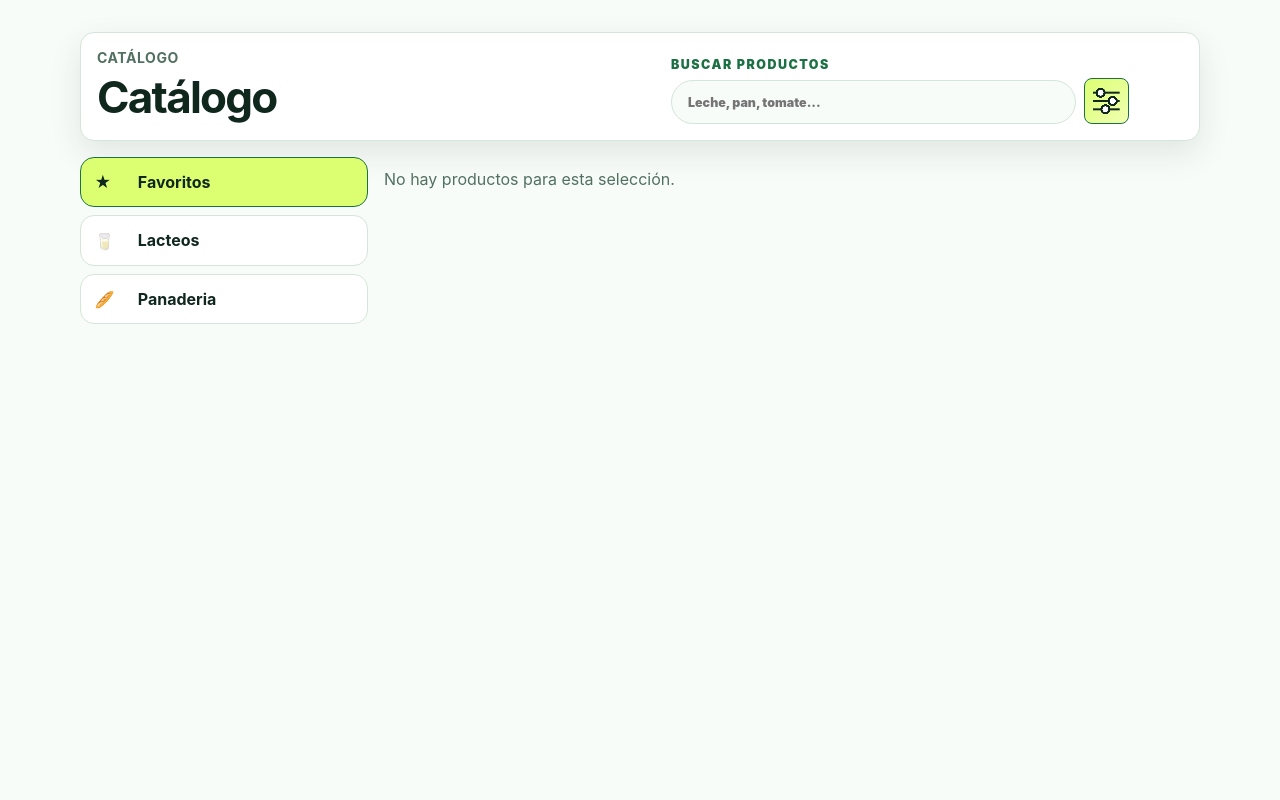
Test: CatalogPage › can filter search results by the selected category
The image size is (1280, 800).
Click the button "🥛 Lacteos" at (169, 240), box [80,215,368,266]
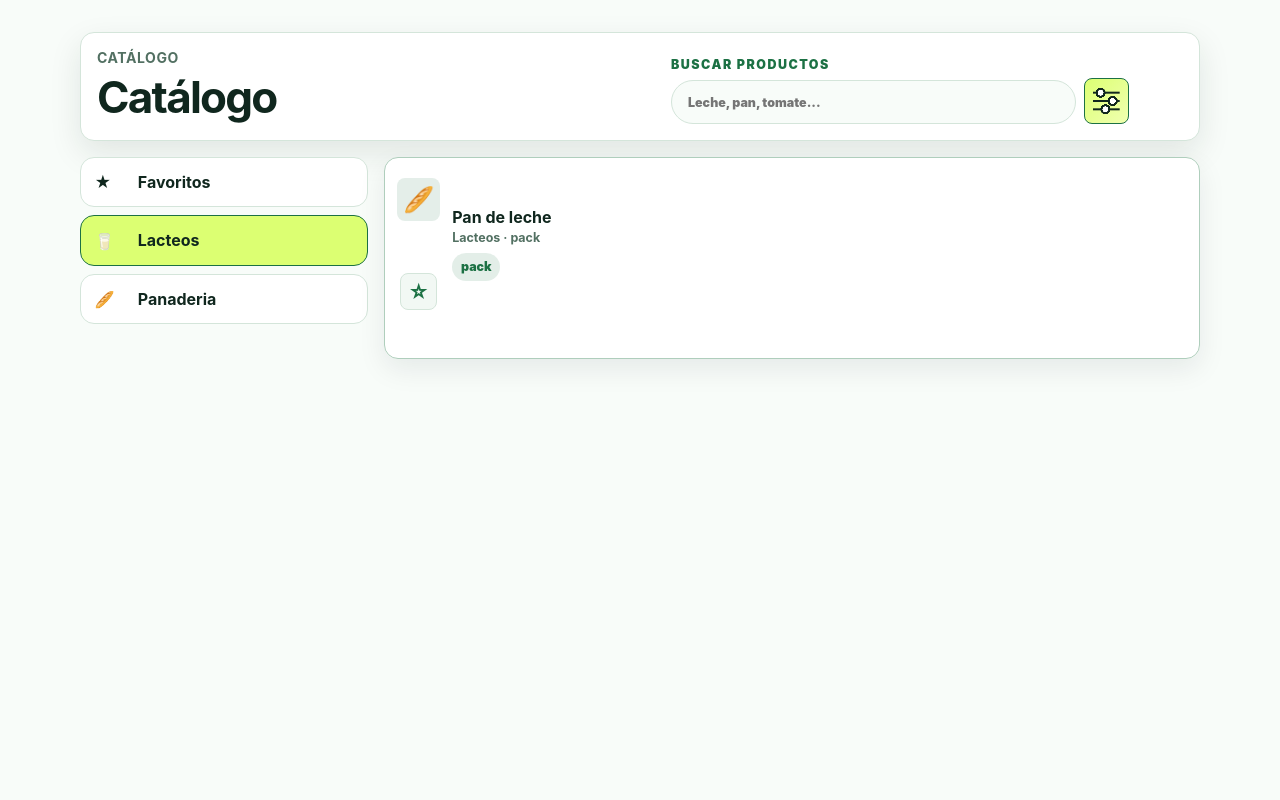
Type "pan" into the field labelled "Buscar productos" at (873, 102), box [671,80,1076,124]
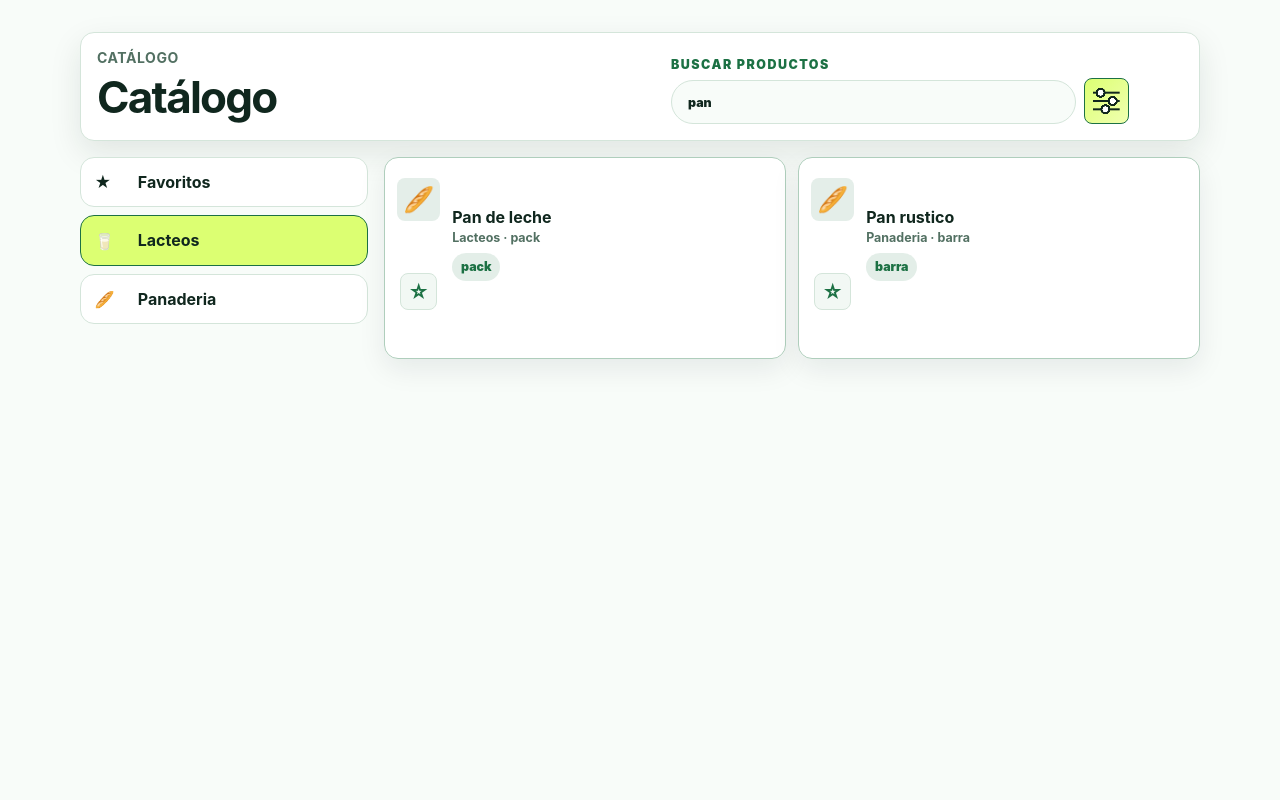
Click the button named "Abrir filtros de búsqueda" at (1107, 101), box [1084,78,1129,124]
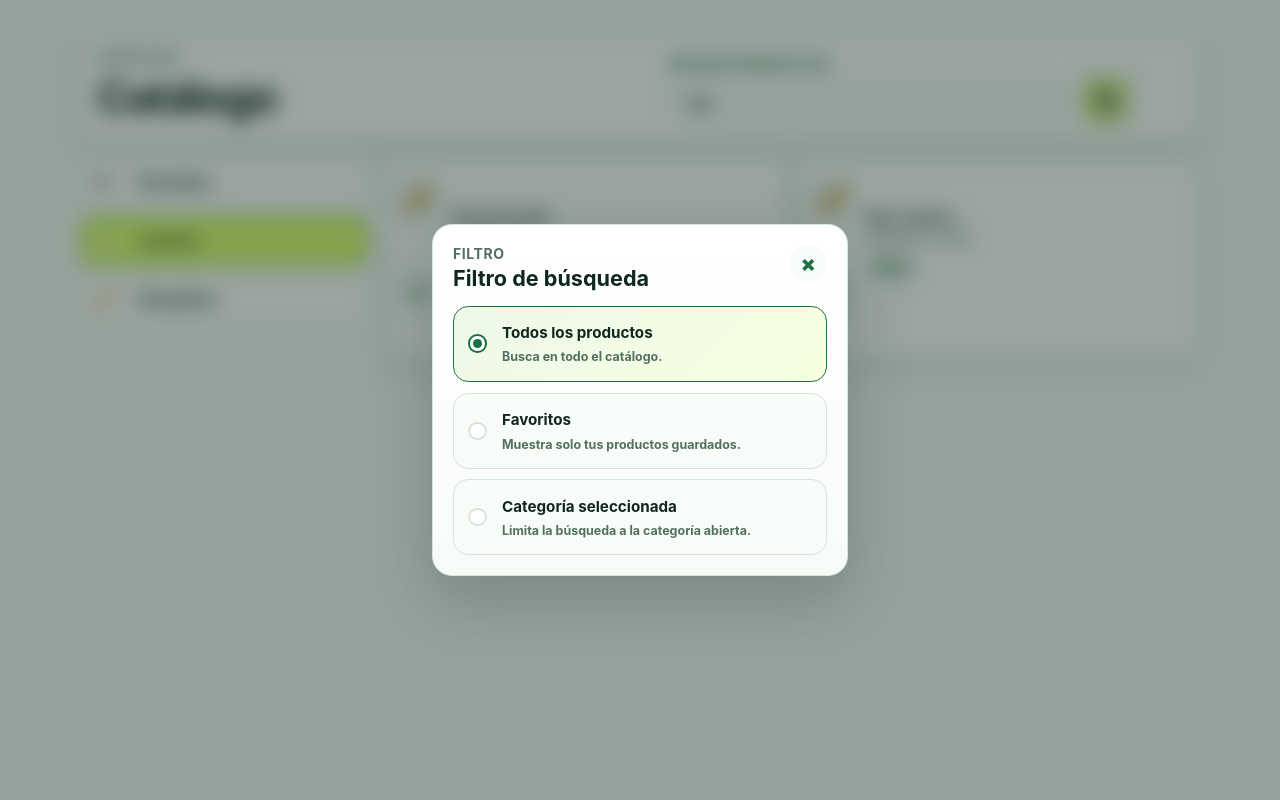
Click the radio button labelled "Categoría seleccionada" at (640, 517), box [453,479,827,555]
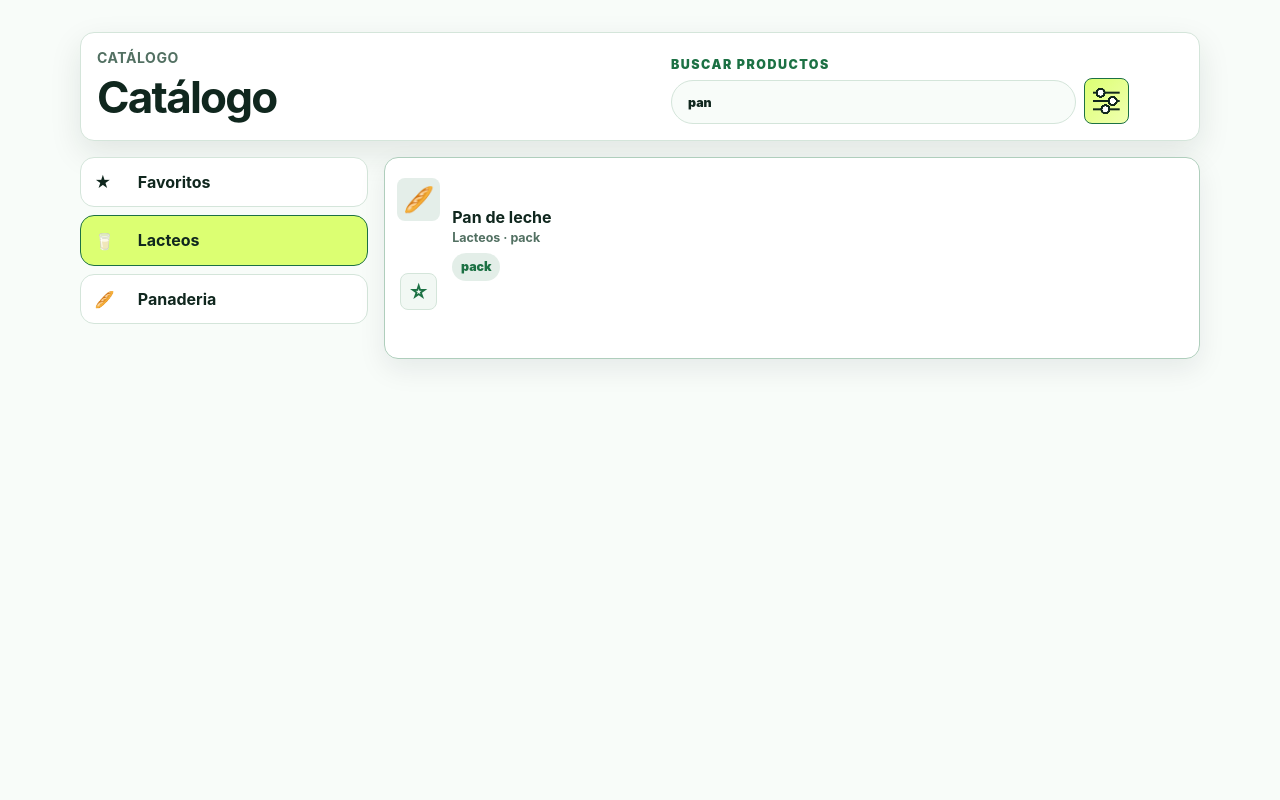
Now the text "Pan de leche" is shown, box [452,208,552,226]
Now the button "Pan rustico" is gone
